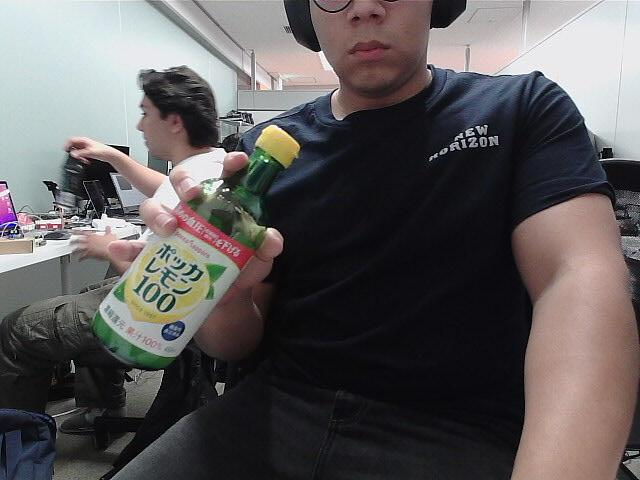Lemon_sapporo: (92, 126, 298, 374)
